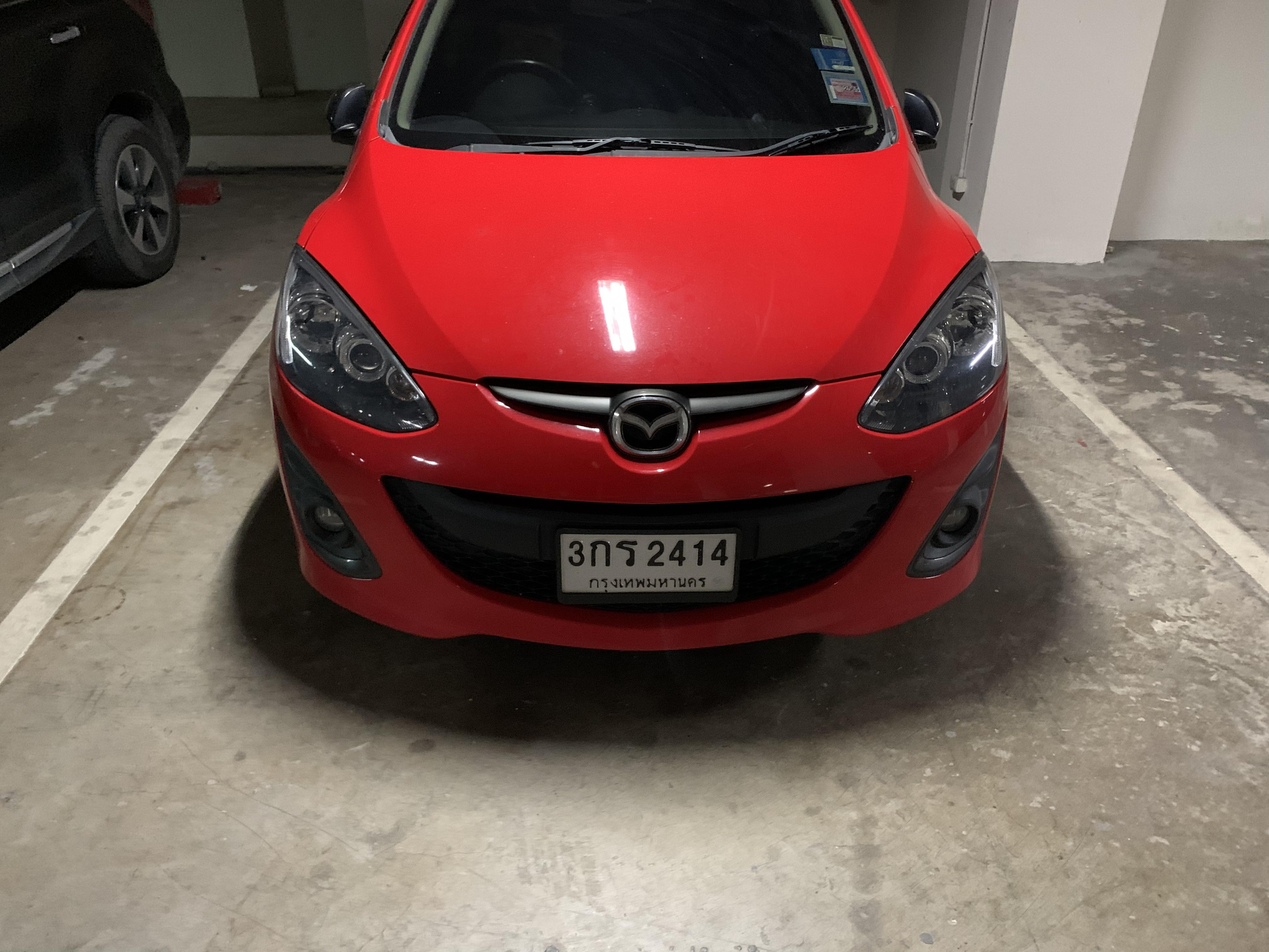license-plate: (553, 524, 741, 599)
